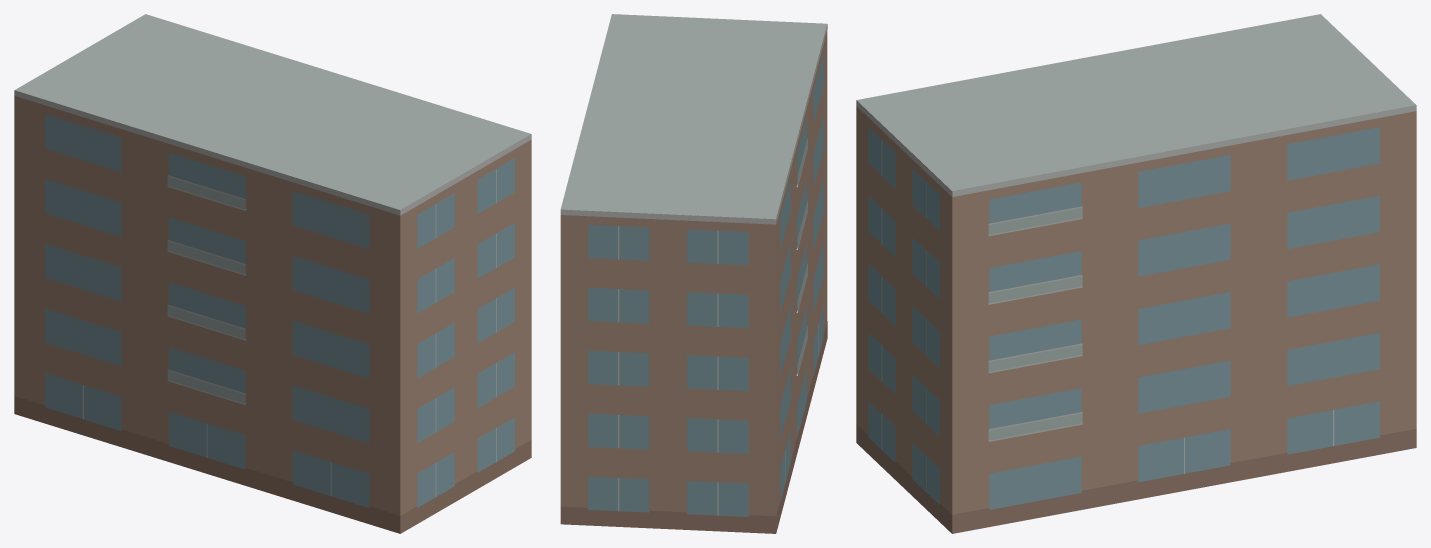
File: survey-upis-32493688.glb
The picture shows the model from 3 angles, left to right: view 1: azimuth 30°, elevation 25°; view 2: azimuth 150°, elevation 25°; view 3: azimuth 270°, elevation 25°; orthographic projection. The views are drawn at different scales.
Visible parts, largest first — view 1: survey-upis-32493688.tmp; view 2: survey-upis-32493688.tmp; view 3: survey-upis-32493688.tmp.
Part boxes in pixels (box(x1,y1,x2,y2)): survey-upis-32493688.tmp: box(14, 14, 531, 533); survey-upis-32493688.tmp: box(560, 14, 827, 533); survey-upis-32493688.tmp: box(856, 14, 1416, 533).
Size of the model in its own units: 15.76 by 14.2 by 21.05.
